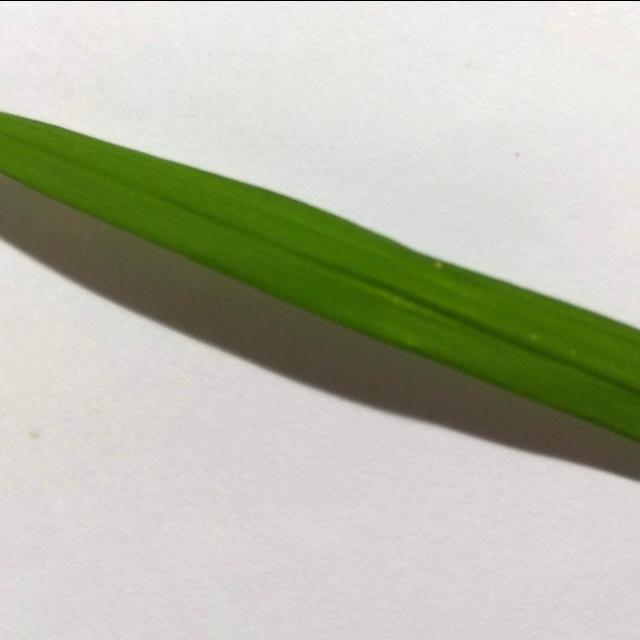healthy: (0, 32, 640, 483)
